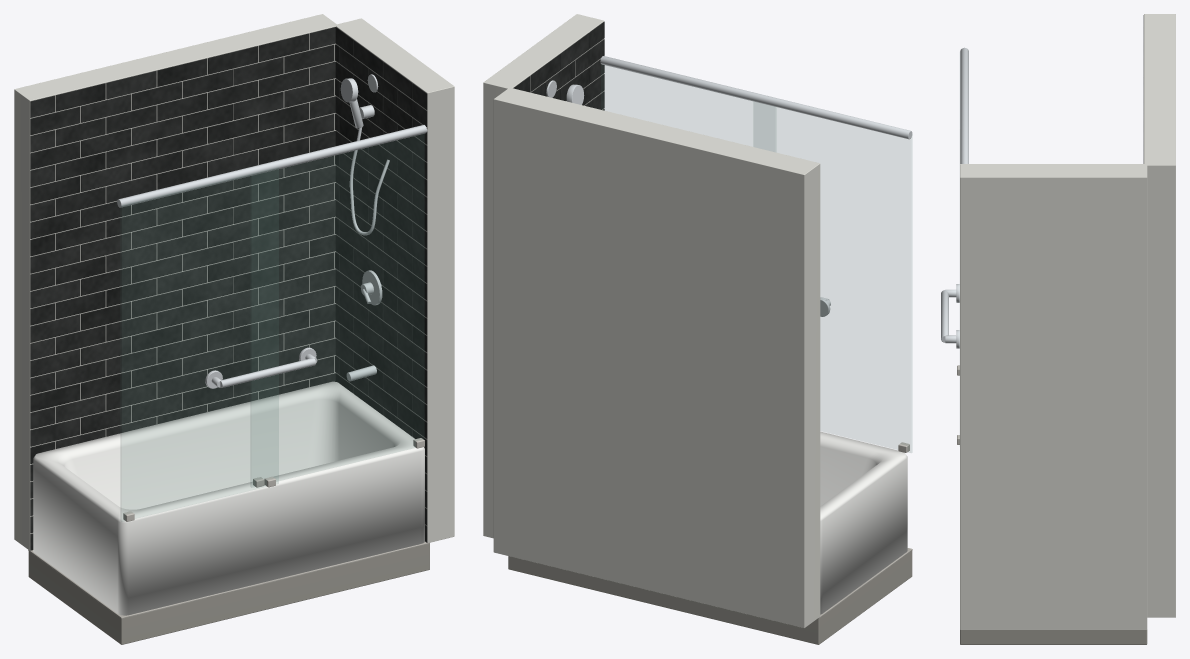
The model's file is one-week-shower-remodel.glb.
3 renders of one model, left to right at view 1: azimuth 30°, elevation 25°; view 2: azimuth 150°, elevation 25°; view 3: azimuth 270°, elevation 25°, orthographic.
Visible parts, largest first — view 1: Charcoal subway surround · field tile, Existing white tub, Sliding tub enclosure · right leaf, Sliding tub enclosure · left leaf, Charcoal return · field tile, Charcoal subway surround · wall core, Charcoal return · wall core, Tub and surround · foundation, Chrome top track, Tub and surround · finish, Grab rail, Flexible hand shower hose; view 2: Charcoal subway surround · wall core, Sliding tub enclosure · left leaf, Existing white tub, Charcoal return · wall core, Sliding tub enclosure · right leaf, Tub and surround · foundation, Charcoal return · field tile, Chrome top track; view 3: Charcoal return · wall core, Charcoal subway surround · wall core, Tub and surround · foundation, Chrome top track, Grab rail.
Boxes of the visible parts, <box> form: Charcoal subway surround · field tile: <box>30,27,335,550</box>; Existing white tub: <box>33,381,424,615</box>; Sliding tub enclosure · right leaf: <box>251,134,424,486</box>; Sliding tub enclosure · left leaf: <box>121,167,278,521</box>; Charcoal return · field tile: <box>335,27,427,542</box>; Charcoal subway surround · wall core: <box>14,14,336,550</box>; Charcoal return · wall core: <box>335,18,454,542</box>; Tub and surround · foundation: <box>28,544,429,644</box>; Chrome top track: <box>117,125,427,207</box>; Tub and surround · finish: <box>28,541,429,618</box>; Grab rail: <box>220,358,315,387</box>; Flexible hand shower hose: <box>349,127,389,235</box>; Charcoal subway surround · wall core: <box>493,88,820,628</box>; Sliding tub enclosure · left leaf: <box>754,102,911,452</box>; Existing white tub: <box>820,431,907,614</box>; Charcoal return · wall core: <box>483,14,604,538</box>; Sliding tub enclosure · right leaf: <box>601,65,775,151</box>; Tub and surround · foundation: <box>508,551,912,644</box>; Charcoal return · field tile: <box>513,21,604,110</box>; Chrome top track: <box>600,56,912,139</box>; Charcoal return · wall core: <box>960,164,1147,629</box>; Charcoal subway surround · wall core: <box>1144,14,1175,617</box>; Tub and surround · foundation: <box>960,630,1147,644</box>; Chrome top track: <box>960,47,968,163</box>; Grab rail: <box>941,290,948,342</box>.
Bounding box in the file's own units: 1.67 × 2.29 × 1.02.
8 materials, 2 textured.
